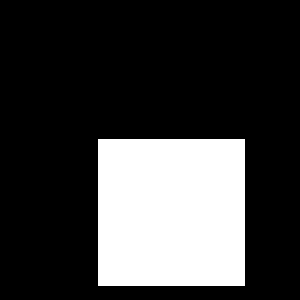circle: (98, 139, 245, 286)
